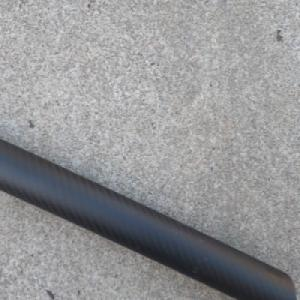LuggagePart: (0, 135, 297, 300)
